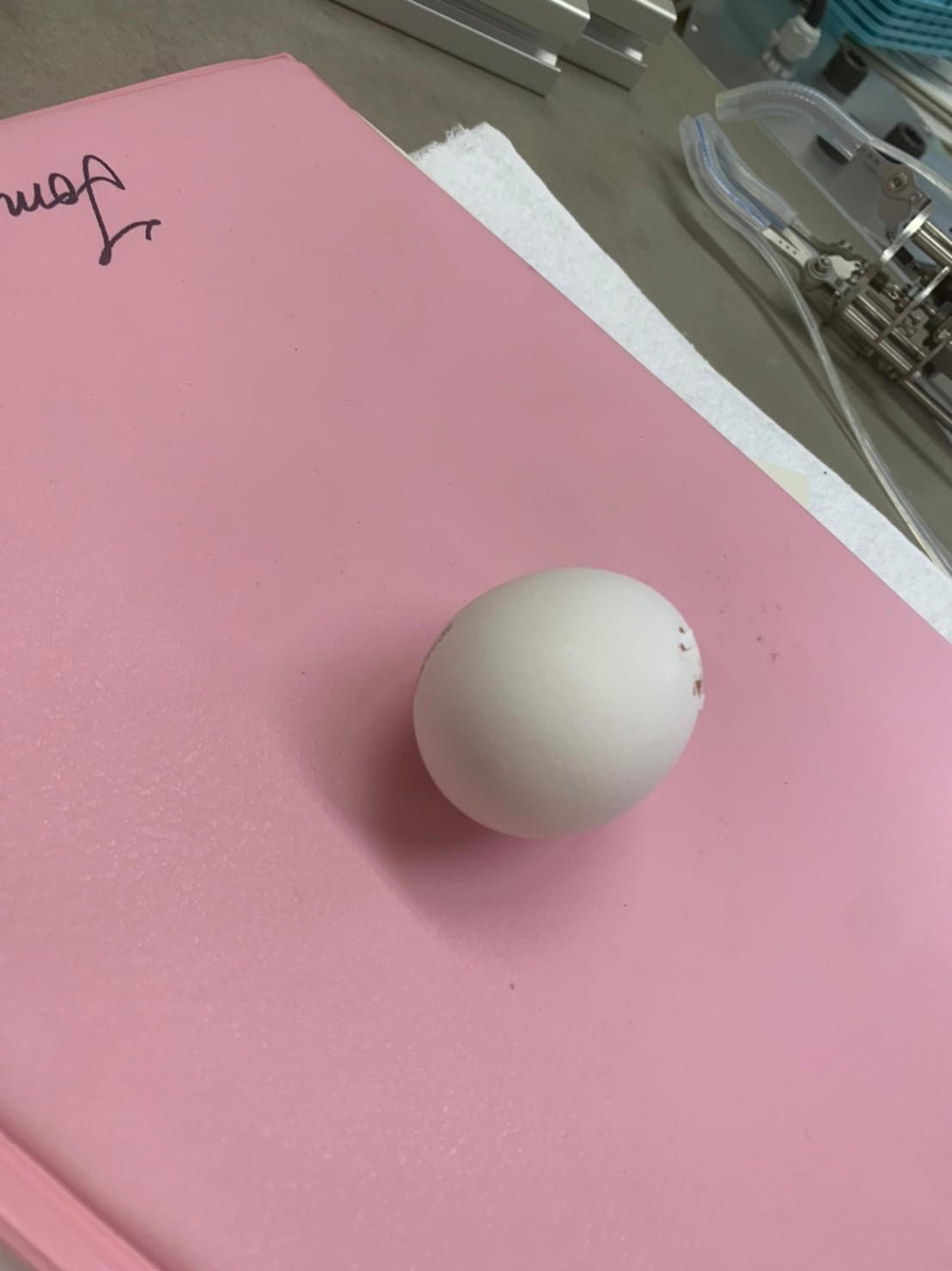egg: (409, 564, 712, 840)
